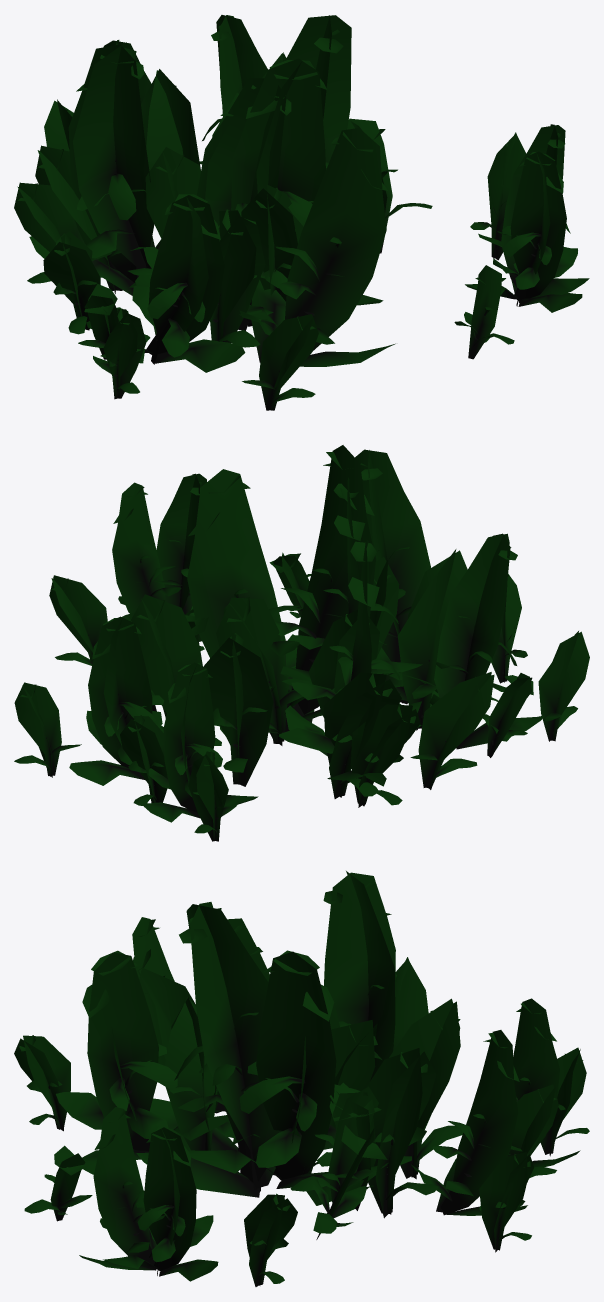
The model's file is FlowersWhiteGCATA_I.fbx.
3 views of the same model, one above another, from view 1: azimuth 30°, elevation 25°; view 2: azimuth 150°, elevation 25°; view 3: azimuth 270°, elevation 25° (orthographic). The views are drawn at different scales.
Parts seen in each view (by area): view 1: FWGCATAI_LOD0; view 2: FWGCATAI_LOD0; view 3: FWGCATAI_LOD0.
Boxes of the visible parts, x1,y1,x2,y2 form: FWGCATAI_LOD0: [14, 15, 589, 410]; FWGCATAI_LOD0: [14, 445, 589, 841]; FWGCATAI_LOD0: [14, 871, 589, 1286].
Size of what is drawn, in the model's own units: 1.71 by 0.9342 by 1.75.
